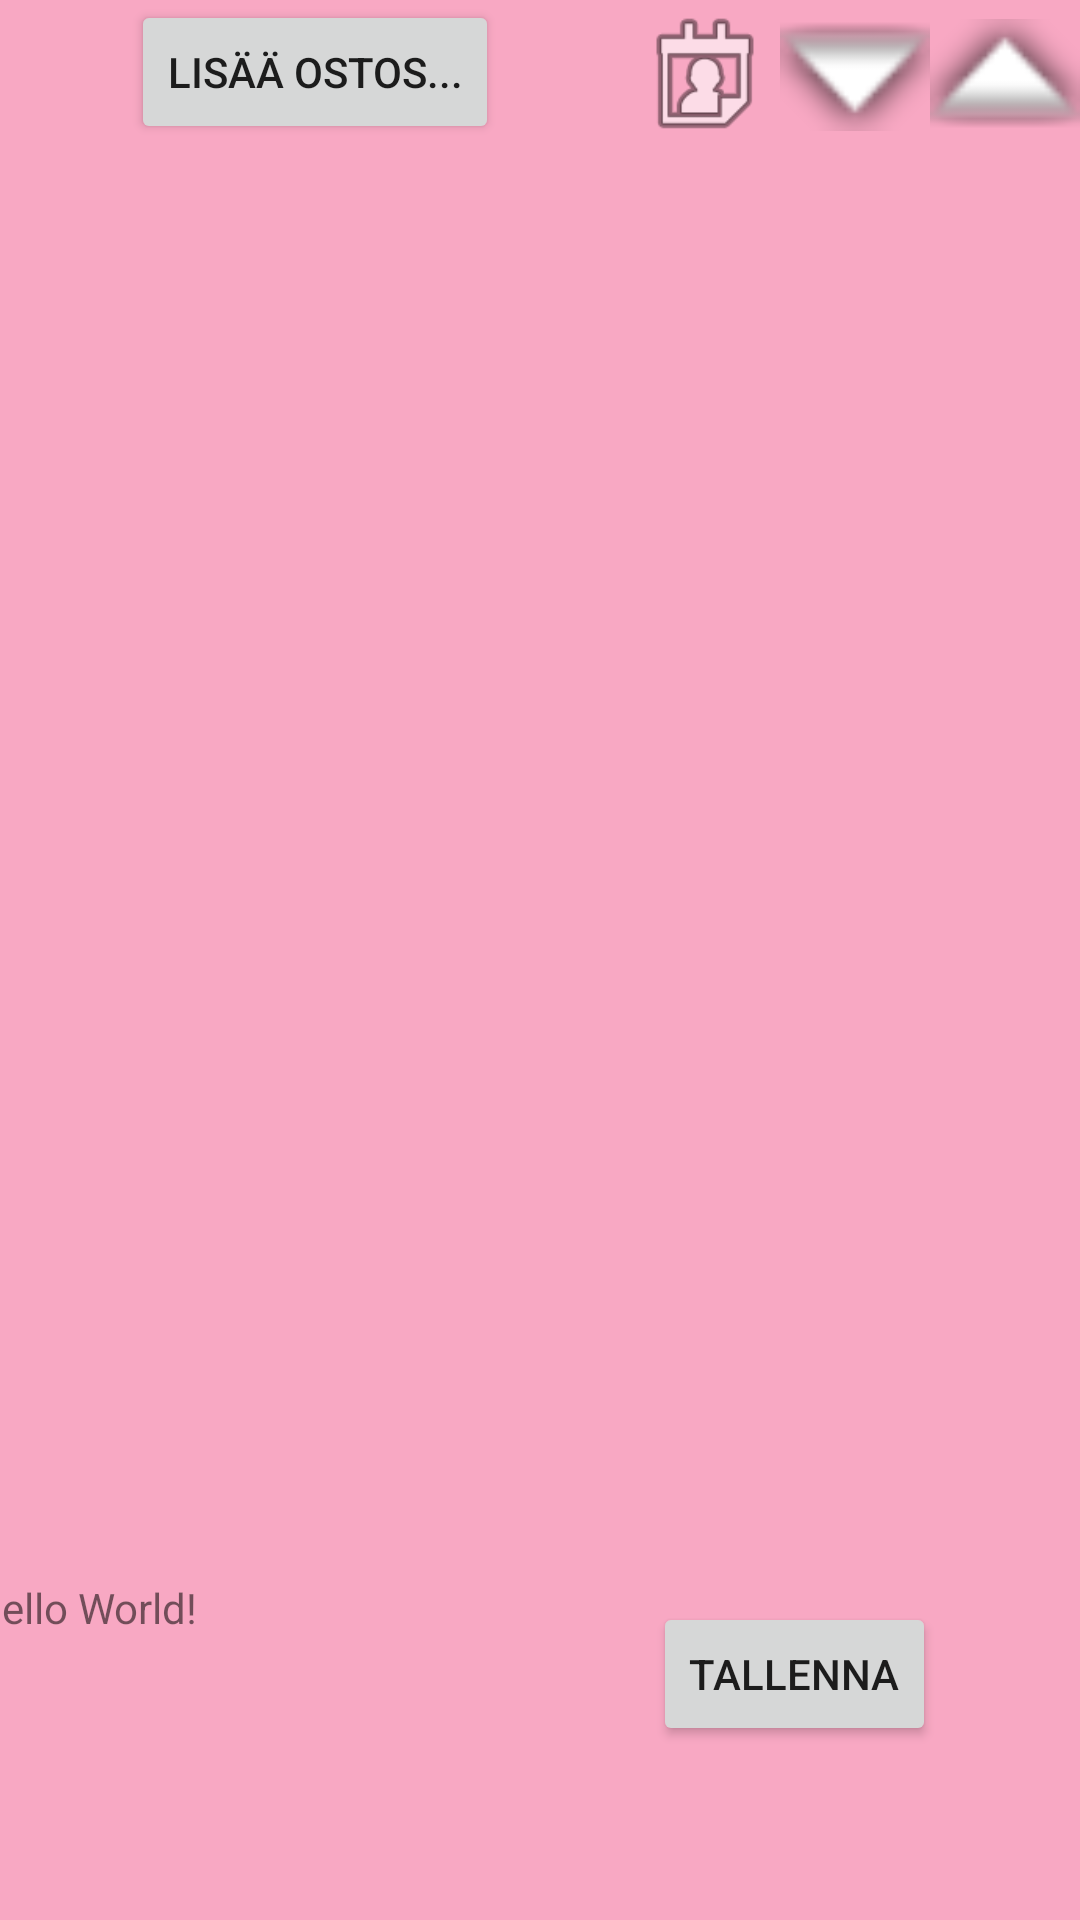

Icon bounding boxes for this 1080x1920 phone screenshot, format (x1,y1,x2,y2):
arrow down float: (780,26,930,127)
arrow up float: (930,23,1080,124)
calendar: (656,18,754,128)
